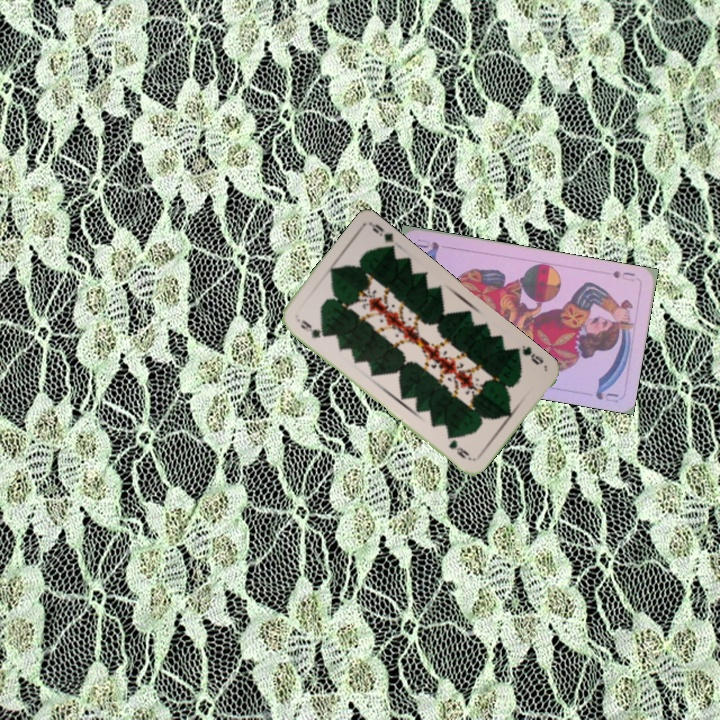G9: (293, 314, 328, 341), (518, 341, 546, 368)
SU: (608, 267, 637, 284)
